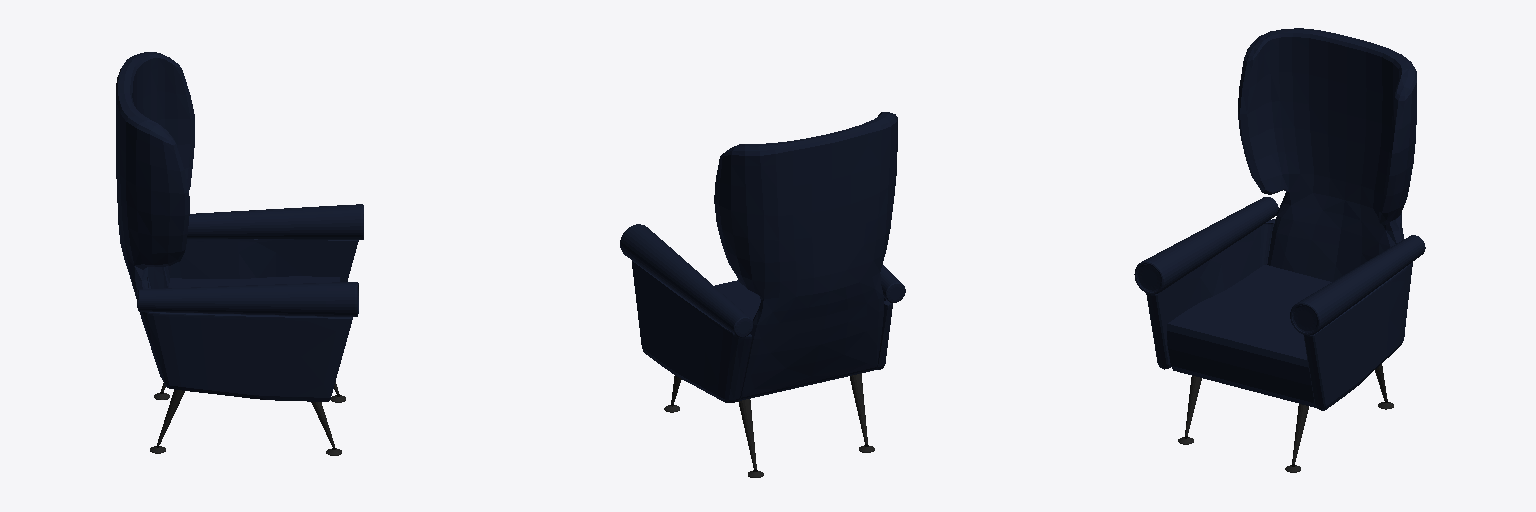
The model's file is armchair.obj.
The picture shows the model from 3 angles: view 1: azimuth 30°, elevation 25°; view 2: azimuth 150°, elevation 25°; view 3: azimuth 270°, elevation 25°; orthographic projection.
Parts seen in each view (by area): view 1: sillon_orejas.001_Cube.052, sillonrejas_pot.001_Tube.008; view 2: sillon_orejas.001_Cube.052, sillonrejas_pot.001_Tube.008; view 3: sillon_orejas.001_Cube.052, sillonrejas_pot.001_Tube.008.
Part boxes in pixels (x1,y1,x2,y2): sillon_orejas.001_Cube.052: (116,52,363,401); sillonrejas_pot.001_Tube.008: (150,382,345,455); sillon_orejas.001_Cube.052: (620,112,905,402); sillonrejas_pot.001_Tube.008: (664,373,874,477); sillon_orejas.001_Cube.052: (1134,28,1425,410); sillonrejas_pot.001_Tube.008: (1178,364,1393,472).
Bounding box in the file's own units: 0.788 × 1 × 0.7769.